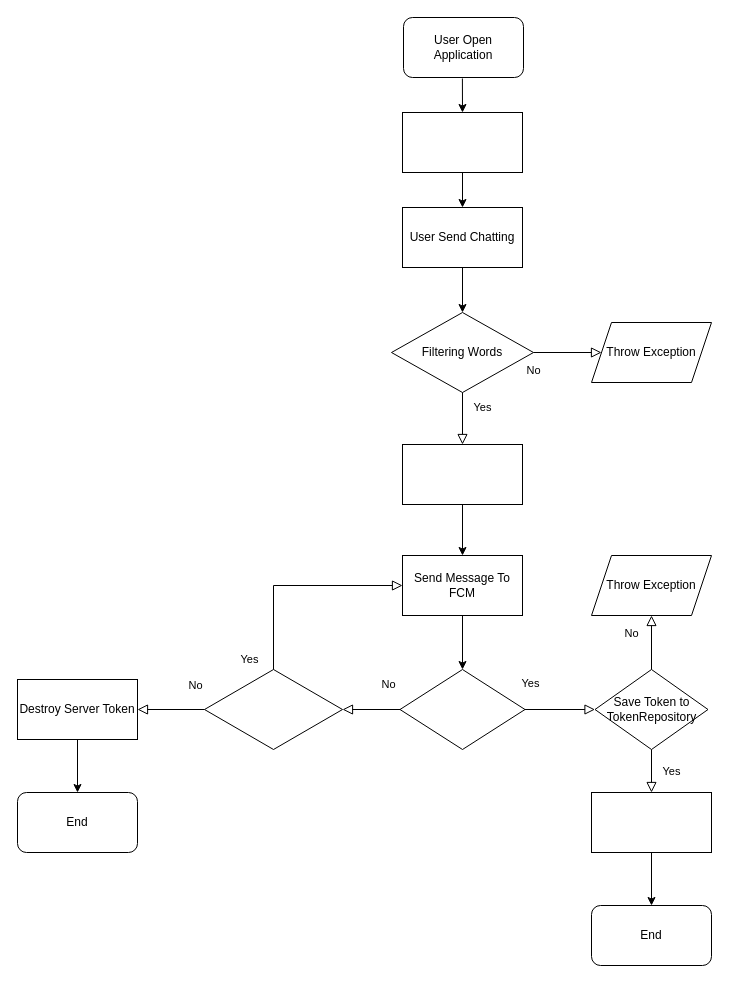
This 729x983 diagram has some shape labels left out. Each missing label, with the centre of its shape:
"Generate Token" goes at [462,142].
"Retry 3 times (retry is 4 == Destroy)" goes at [273,709].
"Send Message" goes at [651,822].
"Send Message To Server" goes at [462,474].
"Succeed? (Validate Token)" goes at [462,709].
